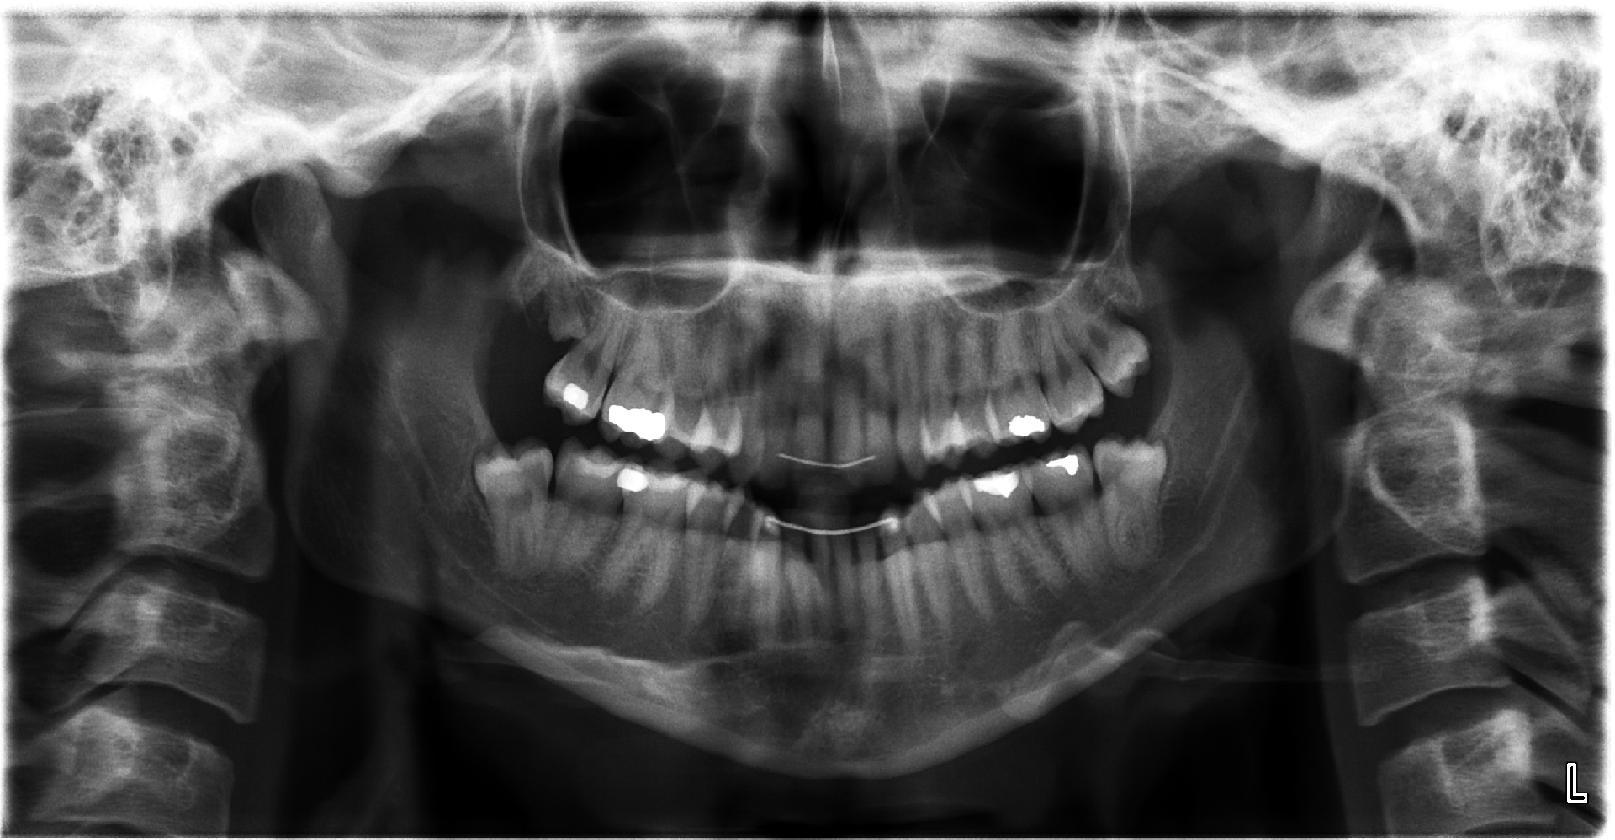Vertical: (464, 430, 564, 574), (1089, 432, 1177, 567)
